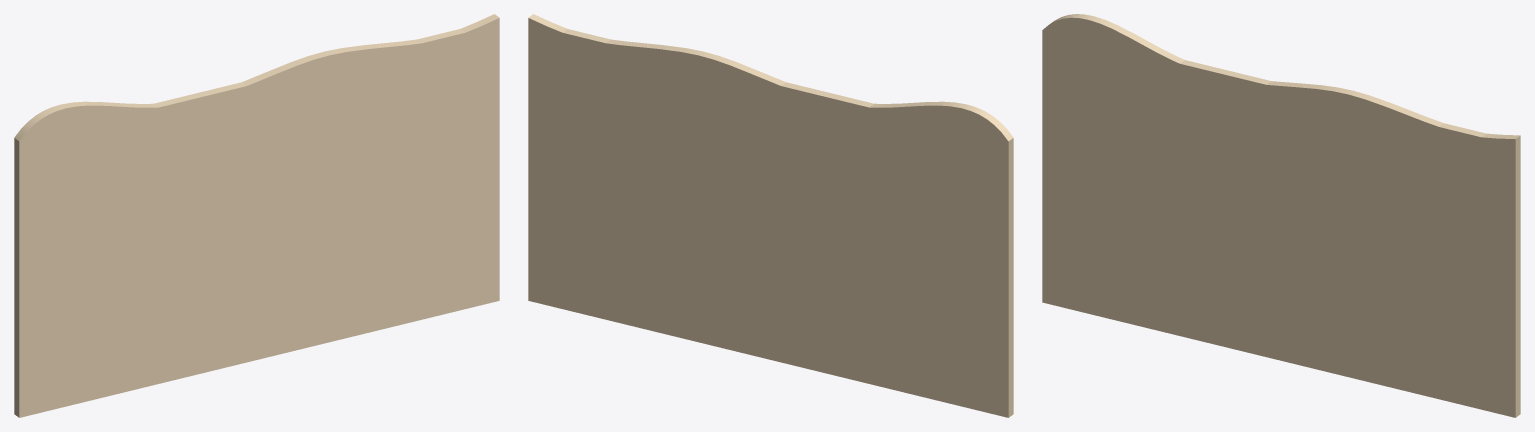
File: Counter Top 40 Live Edge.fbx
3 renders of one model, left to right at view 1: azimuth 30°, elevation 25°; view 2: azimuth 150°, elevation 25°; view 3: azimuth 330°, elevation 25°, orthographic.
Visible parts, largest first — view 1: Body_1; view 2: Body_1; view 3: Body_1.
Part boxes in pixels (x1=…): Body_1: x1=14, y1=14, x2=499, y2=417; Body_1: x1=528, y1=14, x2=1013, y2=417; Body_1: x1=1042, y1=14, x2=1520, y2=417.
Bounding box in the file's own units: 102 × 60.3 × 1.91.
